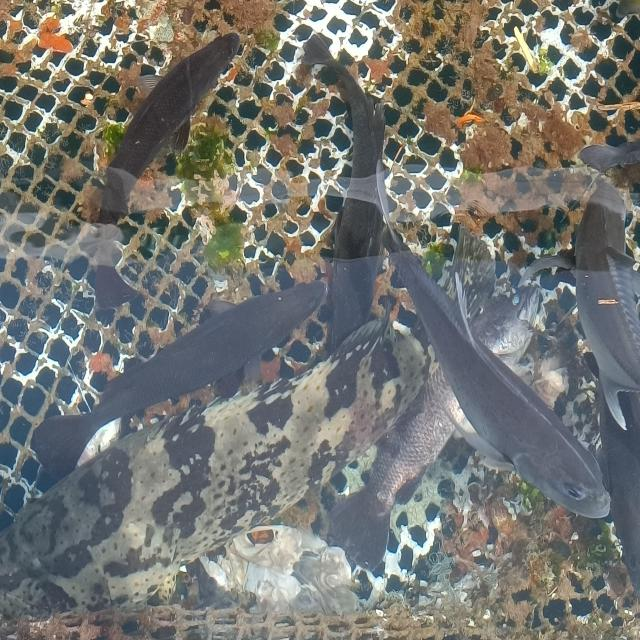ikan: (381, 222, 612, 522), (29, 275, 330, 494), (75, 30, 242, 226), (517, 179, 639, 431)
